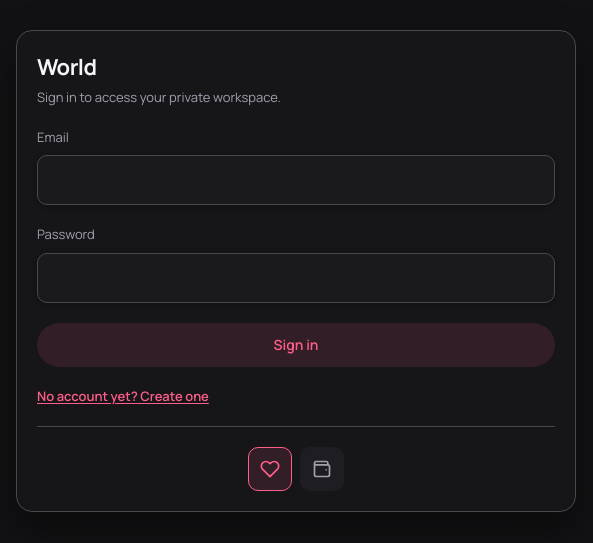
Test case: <LoginScreen /> › surfaces validation error when email is empty
The image size is (593, 543).
Type "Password123!" into the password field labelled "Password".
click(296, 278); type("Password123!")  # box [37,252,555,302]
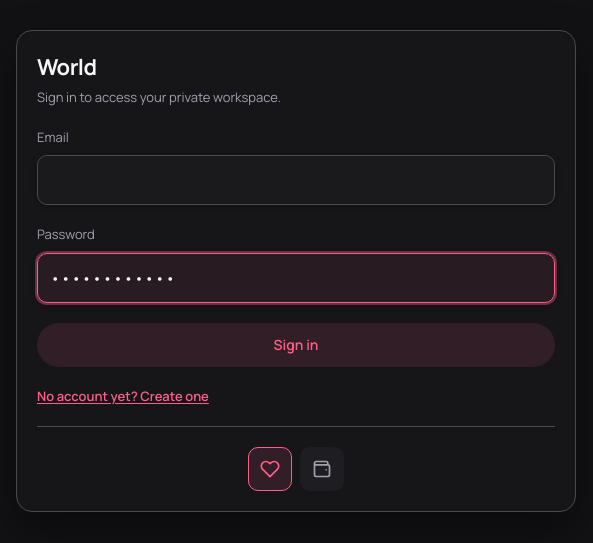
Click the button "Sign in".
click(296, 344)  # box [37,322,555,366]
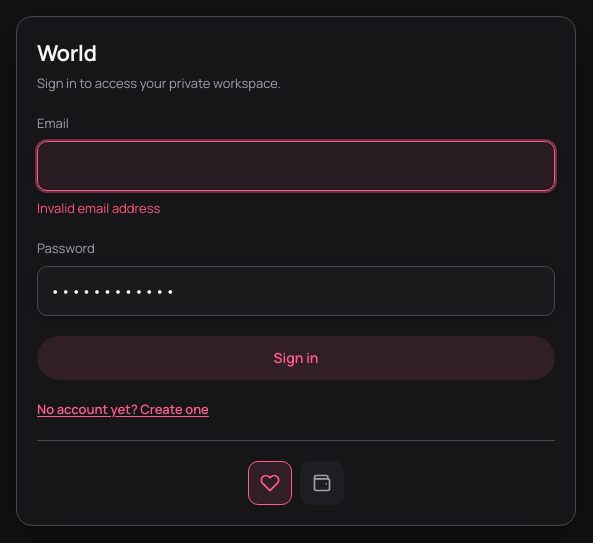
Result: the message is shown at [37,199,160,217]
